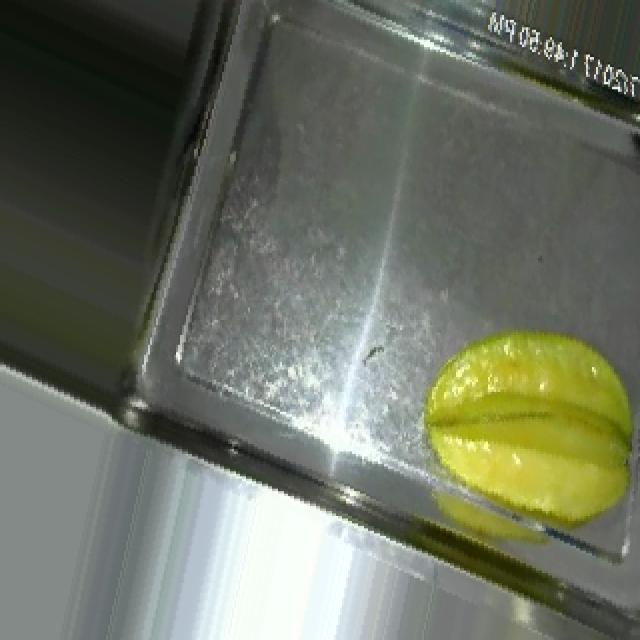fruit: (402, 270, 640, 566)
